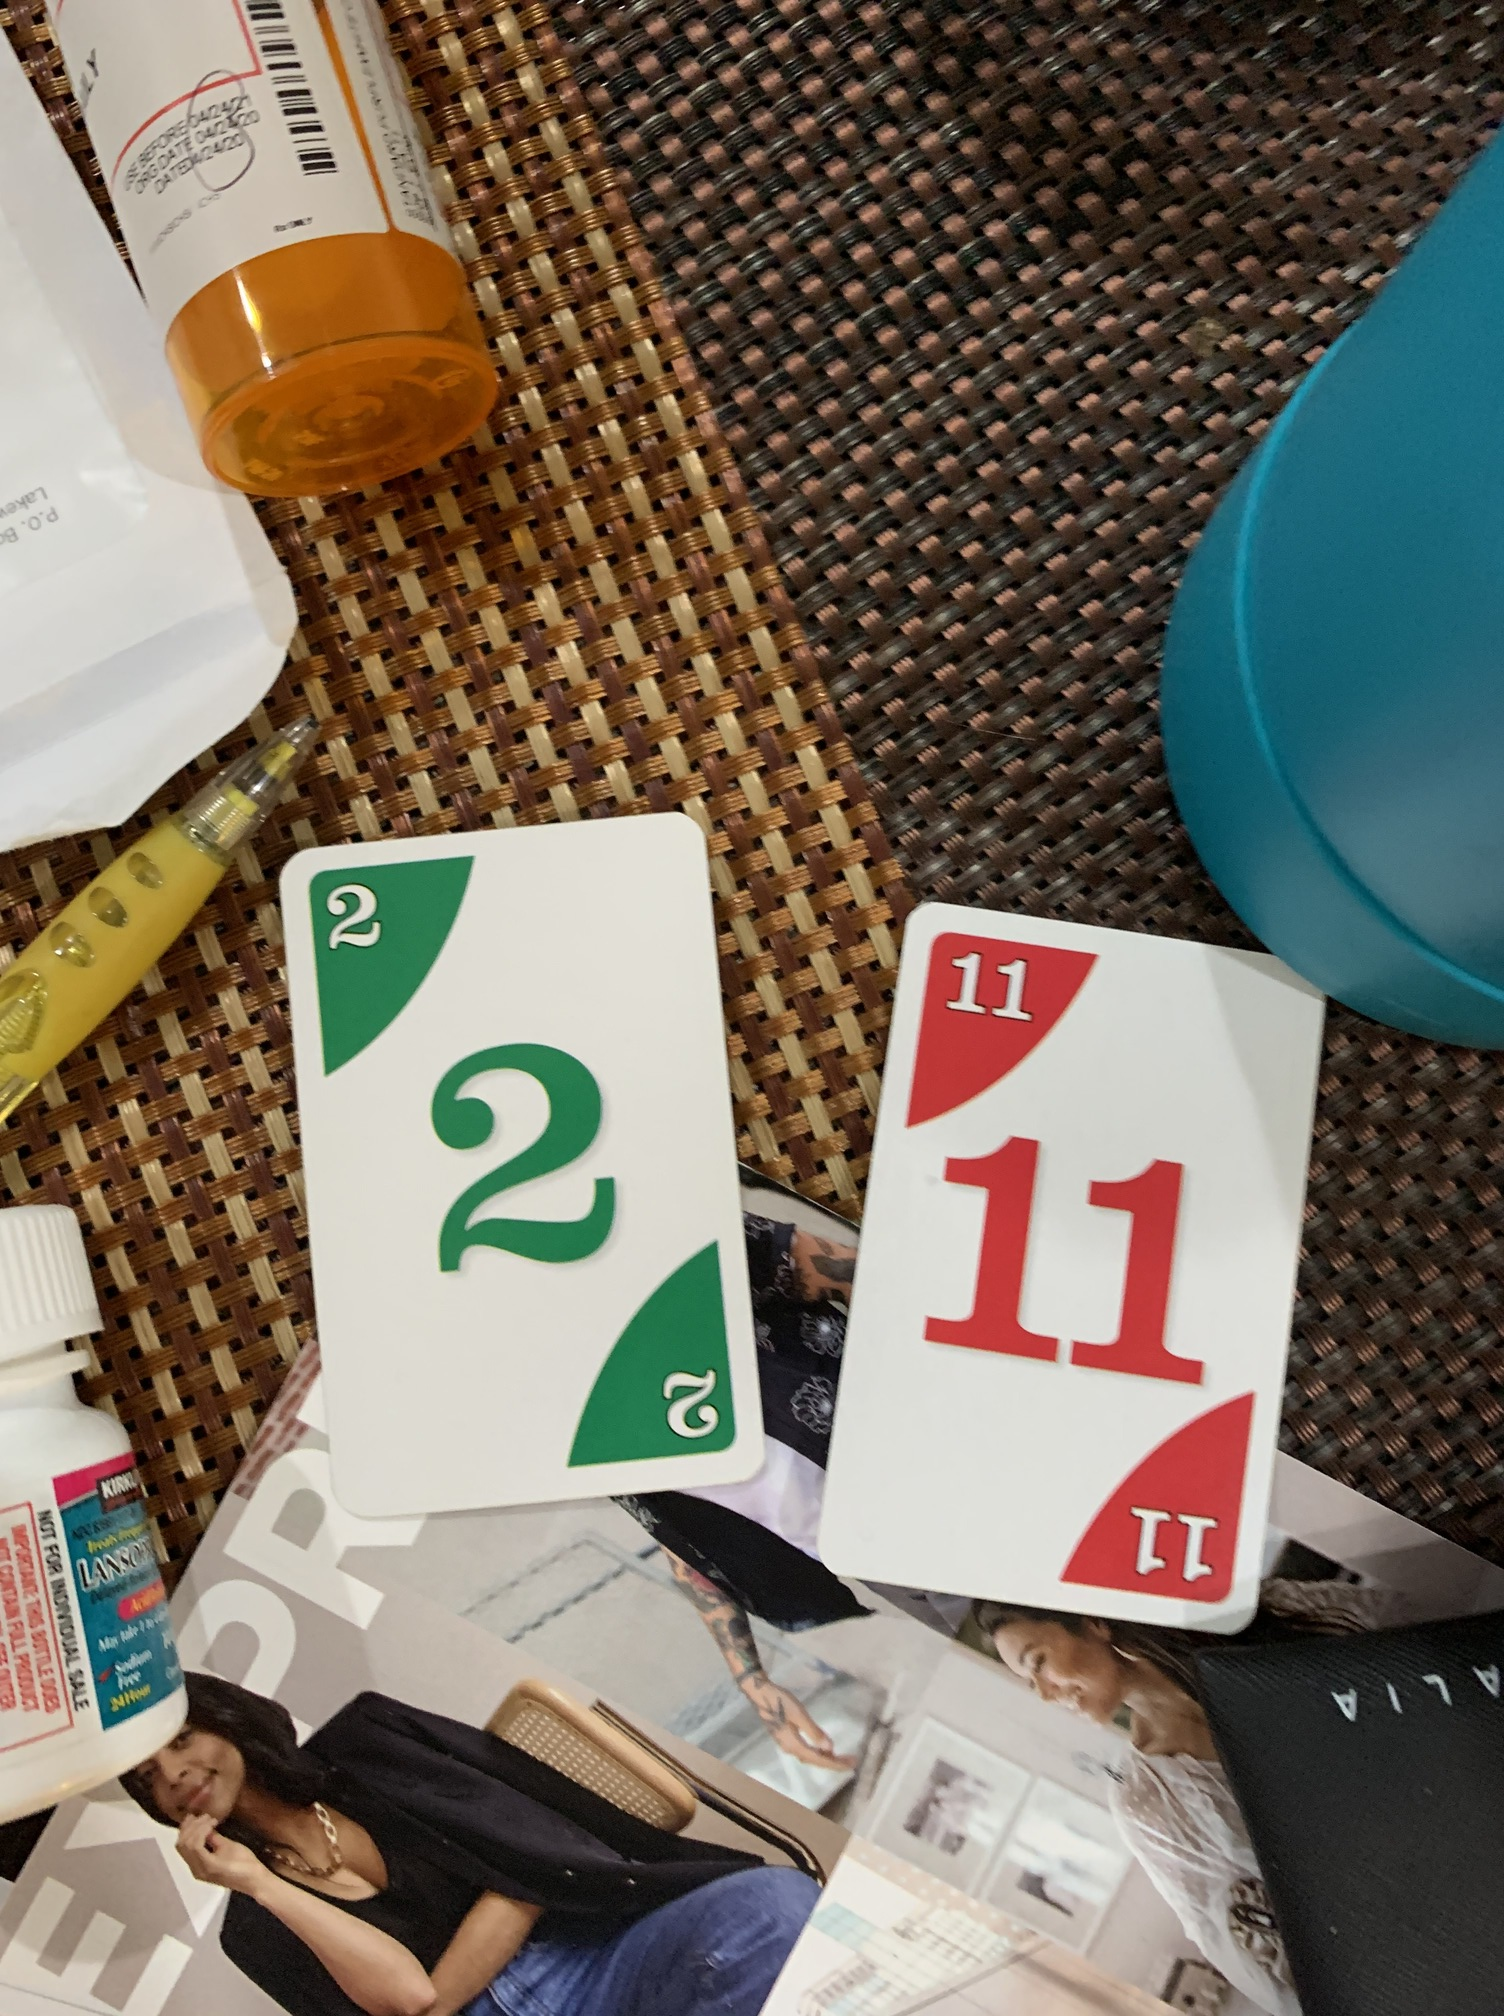eleven: (826, 894, 1343, 1649)
two: (280, 806, 779, 1521)
